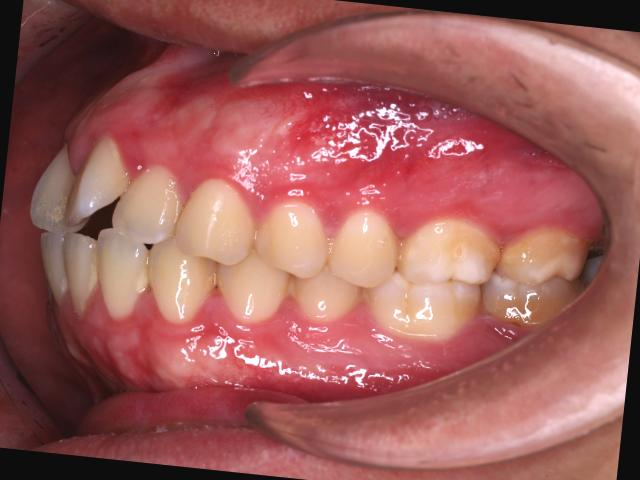canine class I: (140, 158, 308, 344)
molar class I: (358, 202, 506, 350)
